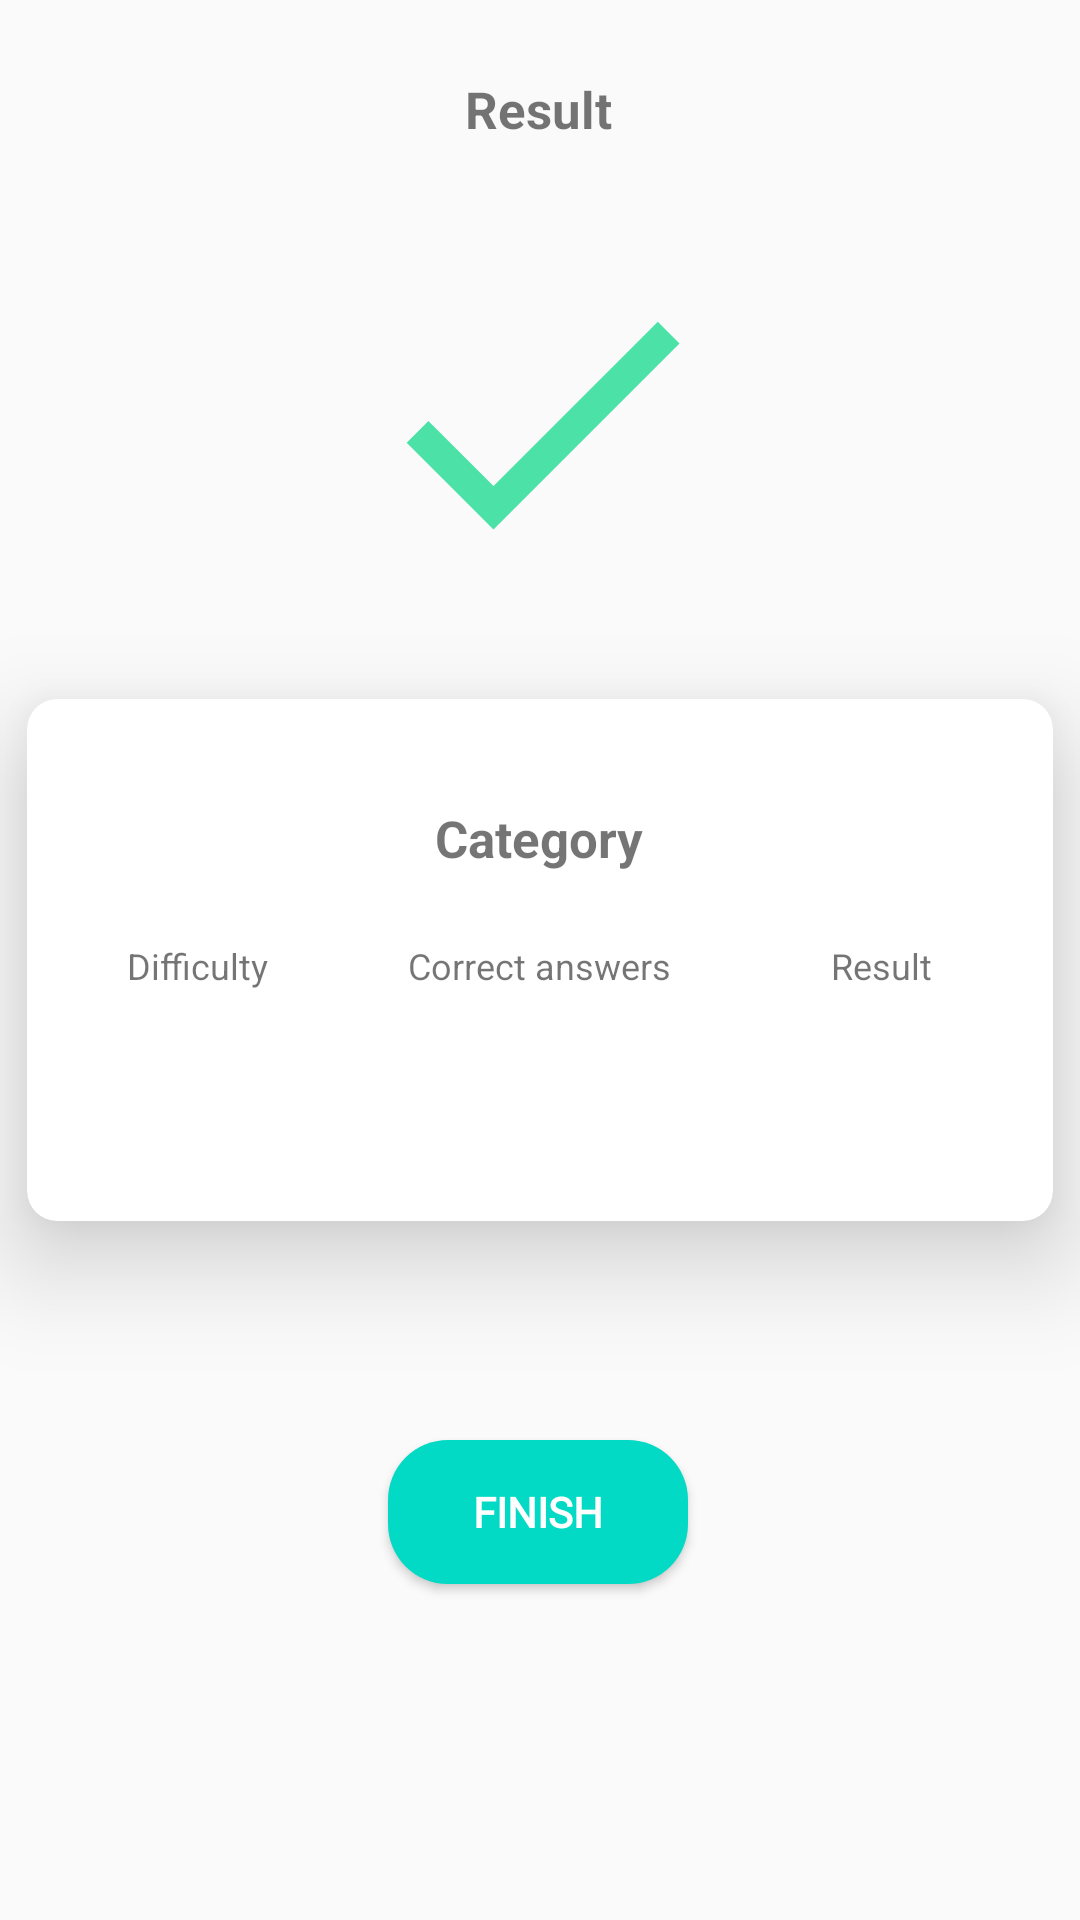

Screen size 1080 × 1920. Icon name, then its box in pixels as (x1, y1, x2, y2):
done: (407, 322, 680, 530)
